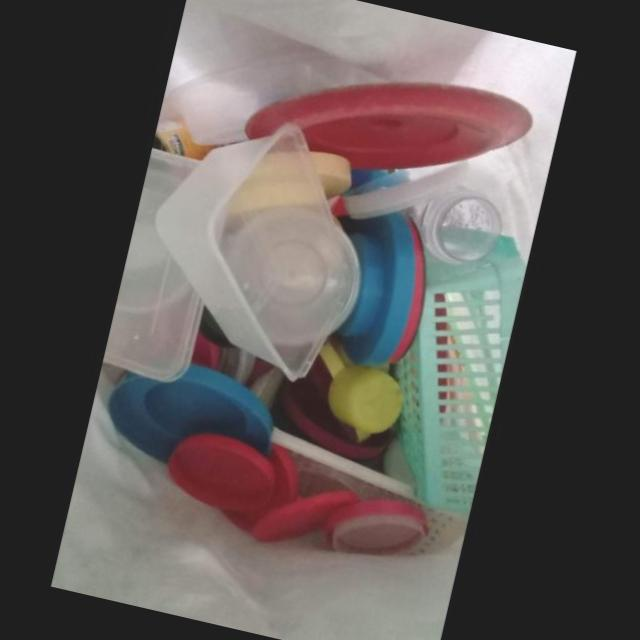hop_nhua: (154, 123, 360, 379), (101, 146, 203, 382), (172, 52, 316, 144), (415, 191, 501, 262)
nhom: (151, 117, 221, 159)
